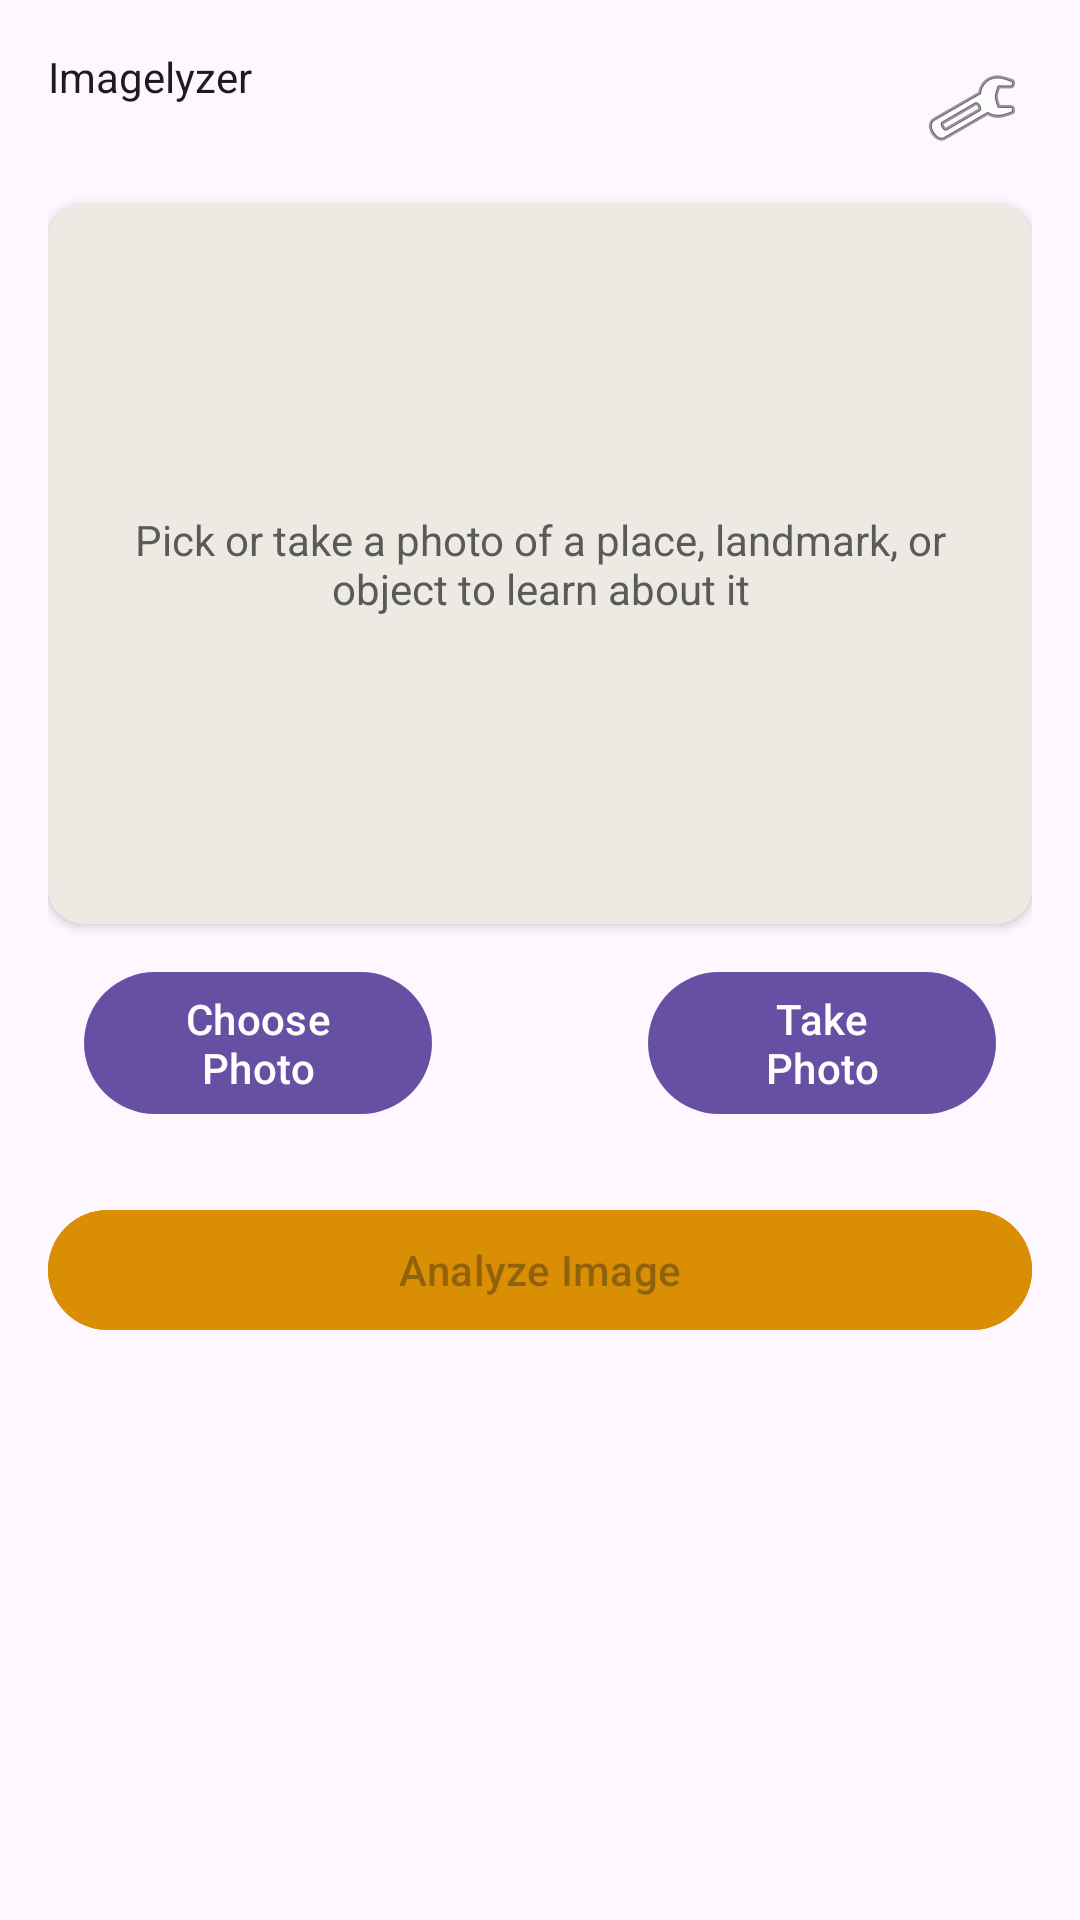

Icon bounding boxes for this 1080 x 1920 phone screenshot, format bbox(x1, y1, x2, y2):
API Key Settings: bbox(929, 75, 1015, 141)
